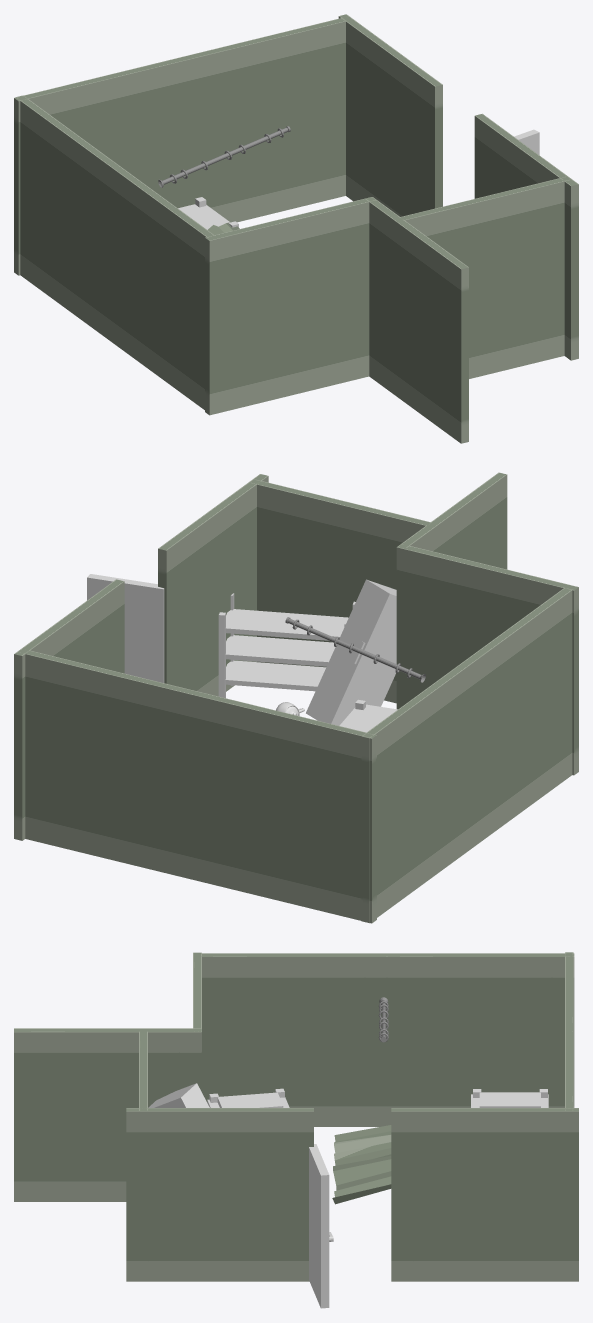
Rendered from testjes11.FBX.
3 renders of one model, top to bottom at view 1: azimuth 30°, elevation 25°; view 2: azimuth 150°, elevation 25°; view 3: azimuth 270°, elevation 25°, orthographic. The views are drawn at different scales.
Parts seen in each view (by area): view 1: Box034, Box040, Box033, Box036, Box035, Box037, Box039, Box041, Box038, rail_002, Box062; view 2: Box041, Box040, Box037, Box035, Box033, Box034, Box038, Box039, Box055, Box036, Box063, Box048 (+5 smaller); view 3: Box039, Box038, Box035, Box037, Box036, Object001, Box063, Box059, Box055, Box054, Box034, Box033 (+2 smaller).
Boxes of the visible parts, x1,y1,x2,y2 form: Box034: [205, 197, 375, 415]; Box040: [181, 17, 349, 222]; Box033: [399, 176, 569, 378]; Box036: [365, 197, 468, 443]; Box035: [111, 166, 214, 409]; Box037: [16, 95, 119, 341]; Box039: [338, 14, 442, 216]; Box041: [14, 57, 185, 275]; Box038: [474, 113, 578, 360]; rail_002: [158, 126, 290, 187]; Box062: [178, 204, 229, 229]; Box041: [195, 692, 376, 923]; Box040: [20, 650, 200, 880]; Box037: [361, 662, 471, 923]; Box035: [463, 588, 572, 848]; Box033: [251, 479, 431, 703]; Box034: [397, 544, 578, 775]; Box038: [158, 474, 268, 696]; Box039: [14, 579, 124, 840]; Box055: [306, 579, 396, 725]; Box036: [396, 472, 507, 708]; Box063: [87, 574, 164, 682]; Box048: [225, 609, 348, 640]; Box039: [391, 1108, 578, 1281]; Box038: [126, 1108, 313, 1281]; Box035: [200, 953, 387, 1126]; Box037: [386, 953, 574, 1125]; Box036: [14, 1028, 201, 1201]; Object001: [332, 1125, 391, 1204]; Box063: [309, 1144, 329, 1308]; Box059: [479, 1092, 540, 1107]; Box055: [148, 1083, 209, 1107]; Box054: [217, 1092, 283, 1107]; Box034: [193, 952, 201, 1091]; Box033: [139, 1031, 147, 1110].
Size of the model in its own units: 259 by 112 by 328.
2 materials, 1 textured.
